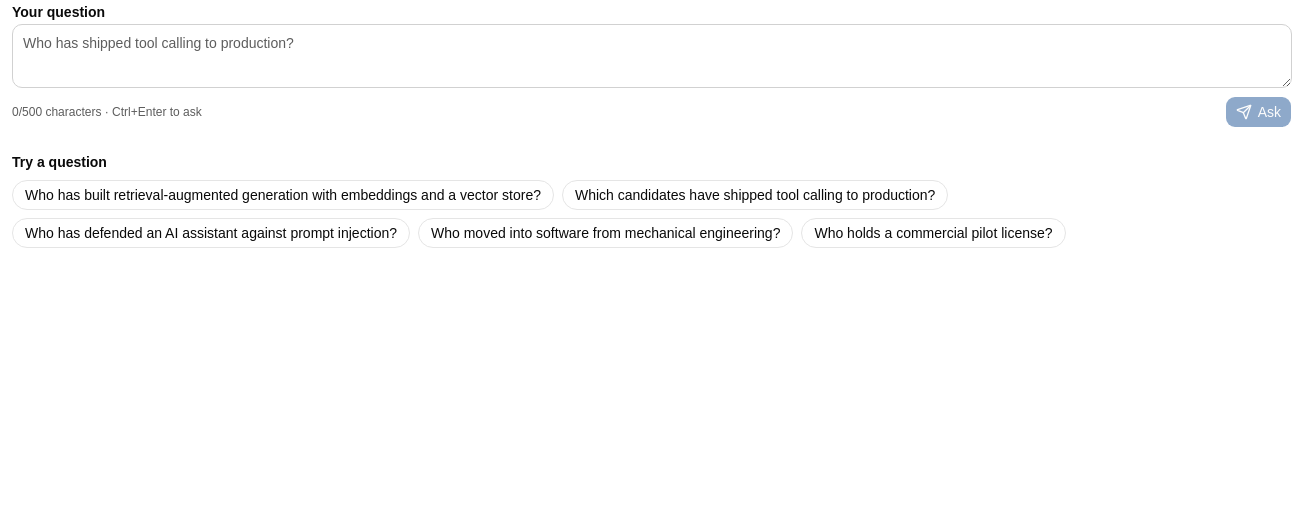
Test case: AskPanel › sends the typed question and shows a cited answer that links to the quote
Type "  Who built RAG?  " into the text box labelled "Your question" at (652, 56), box 12,24 -> 1292,88
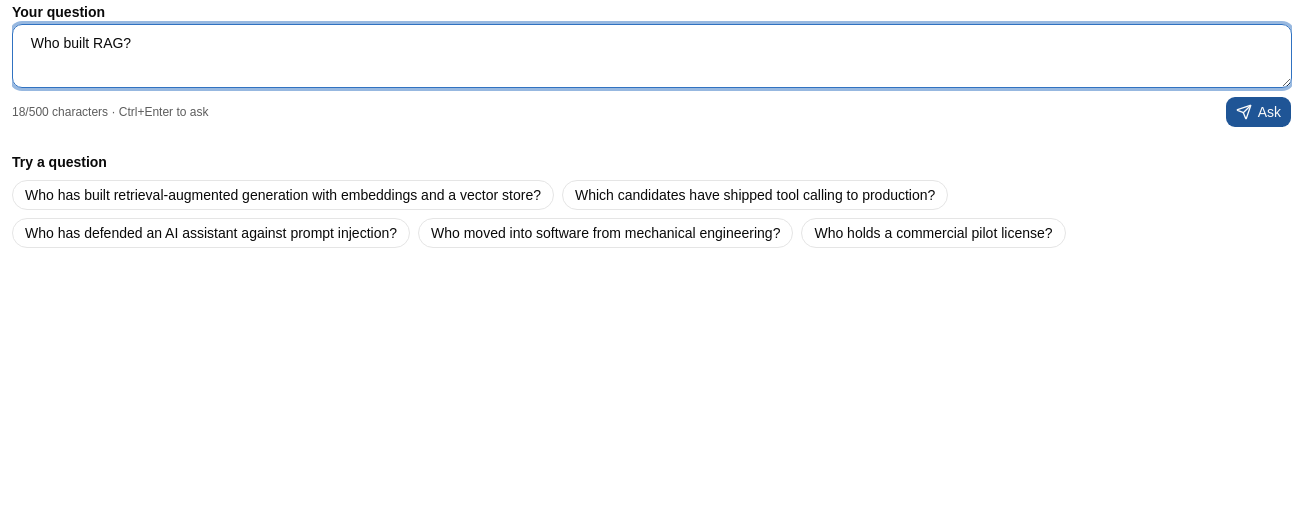
Click the button "Ask" at (1258, 112), box 1225,96 -> 1292,128
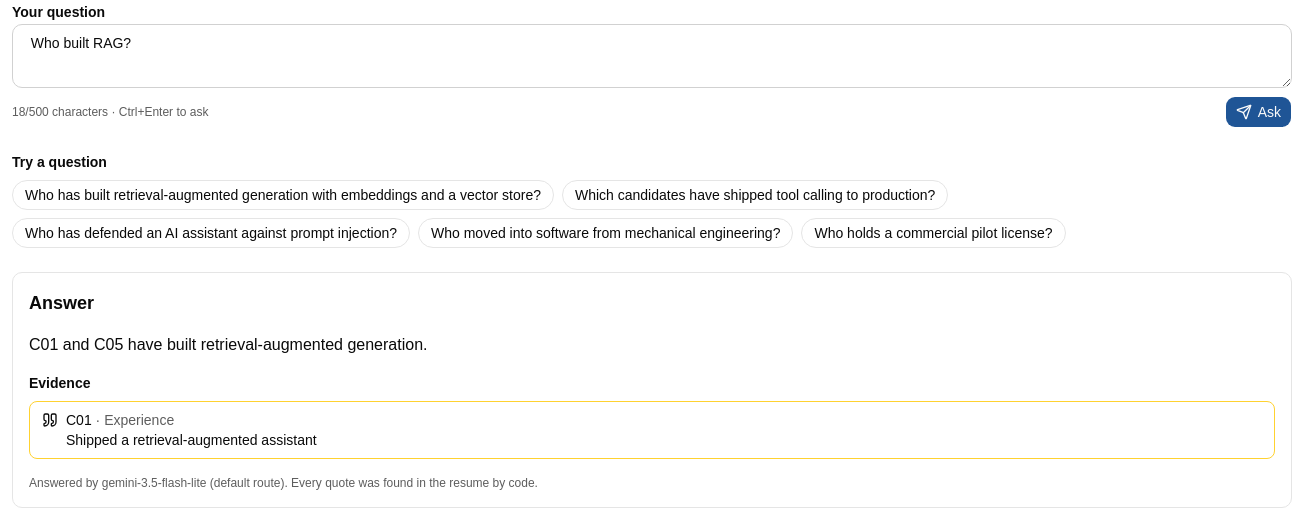
Check: the text "C01 and C05 have built retrieval-augmented generation." is shown, box 29,336 -> 428,353
Check: the text "Answered by gemini-3.5-flash-lite (default route)" is shown, box 29,476 -> 538,490
